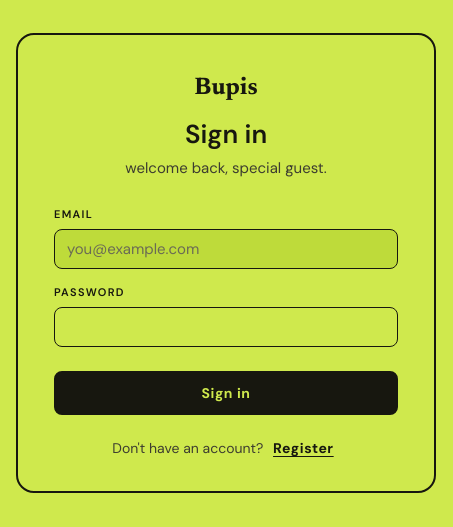
Test case: Login › shows a fallback error message when a non-Error is thrown
Type "a@b.com" into the field labelled "Email" at (226, 249), box [54,229,398,269]
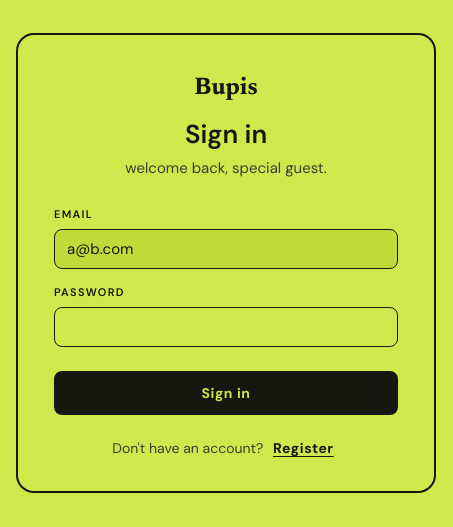
Type "password1" into the password field labelled "Password" at (226, 327), box [54,307,398,347]
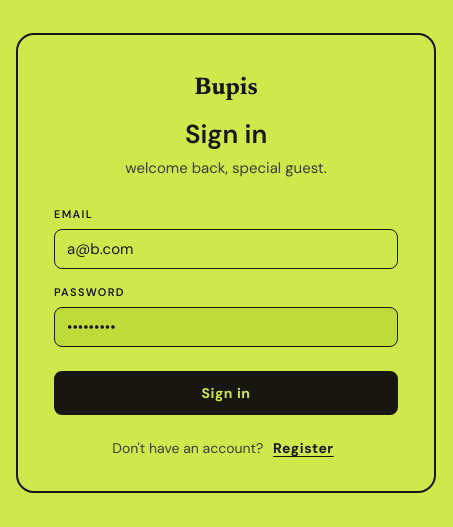
Click the button "Sign in" at (226, 393), box [54,371,398,415]
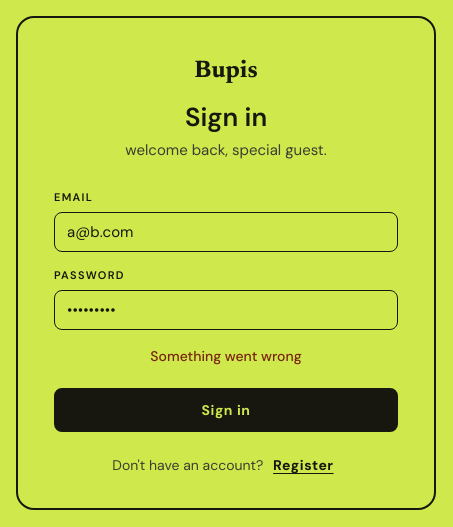
Check: the text "Something went wrong" is shown, box [150,347,302,365]
